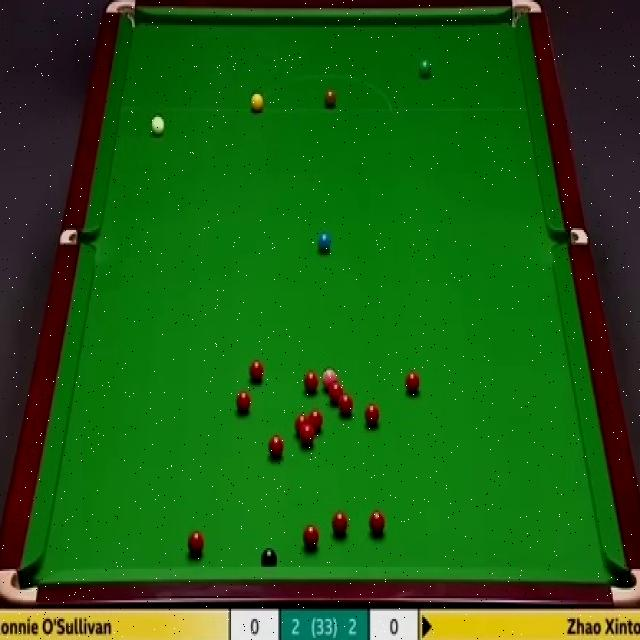black-ball: (262, 547, 281, 567)
blue-ball: (317, 233, 332, 251)
brown-ball: (324, 90, 338, 112)
green-ball: (420, 59, 430, 74)
pink-ball: (322, 368, 337, 389)
red-ball: (186, 530, 205, 556), (332, 508, 348, 537), (302, 525, 320, 550), (308, 409, 324, 436), (271, 434, 287, 459), (405, 368, 420, 394), (235, 392, 252, 414), (370, 512, 386, 534), (300, 425, 315, 447), (250, 359, 263, 384), (338, 396, 352, 418), (328, 381, 342, 402), (303, 371, 317, 391), (295, 415, 309, 435), (364, 406, 379, 424)
white-ball: (151, 115, 165, 136)
yellow-ball: (250, 92, 264, 113)
